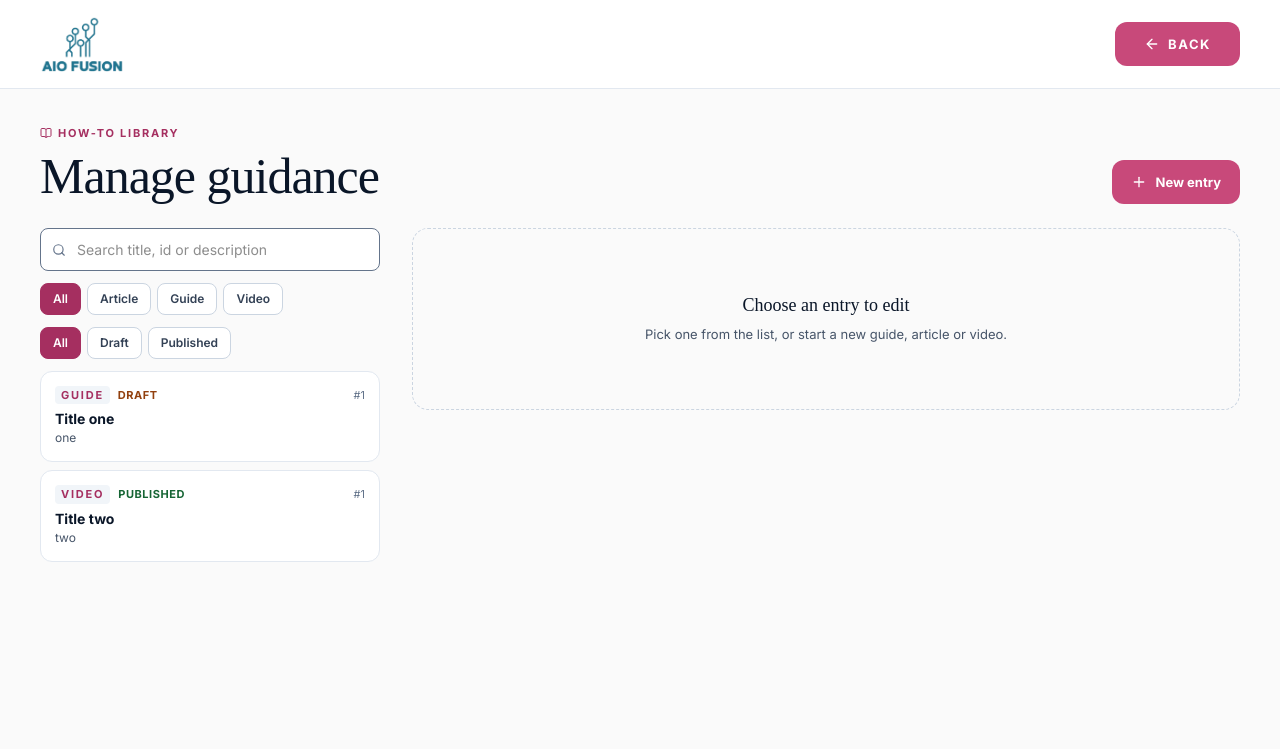
Test: HowtoAdminPage › publishes, unpublishes and requires confirmation to delete
Click the button with test id "row-entry-one".
click(82, 395)  # box [40,371,380,462]
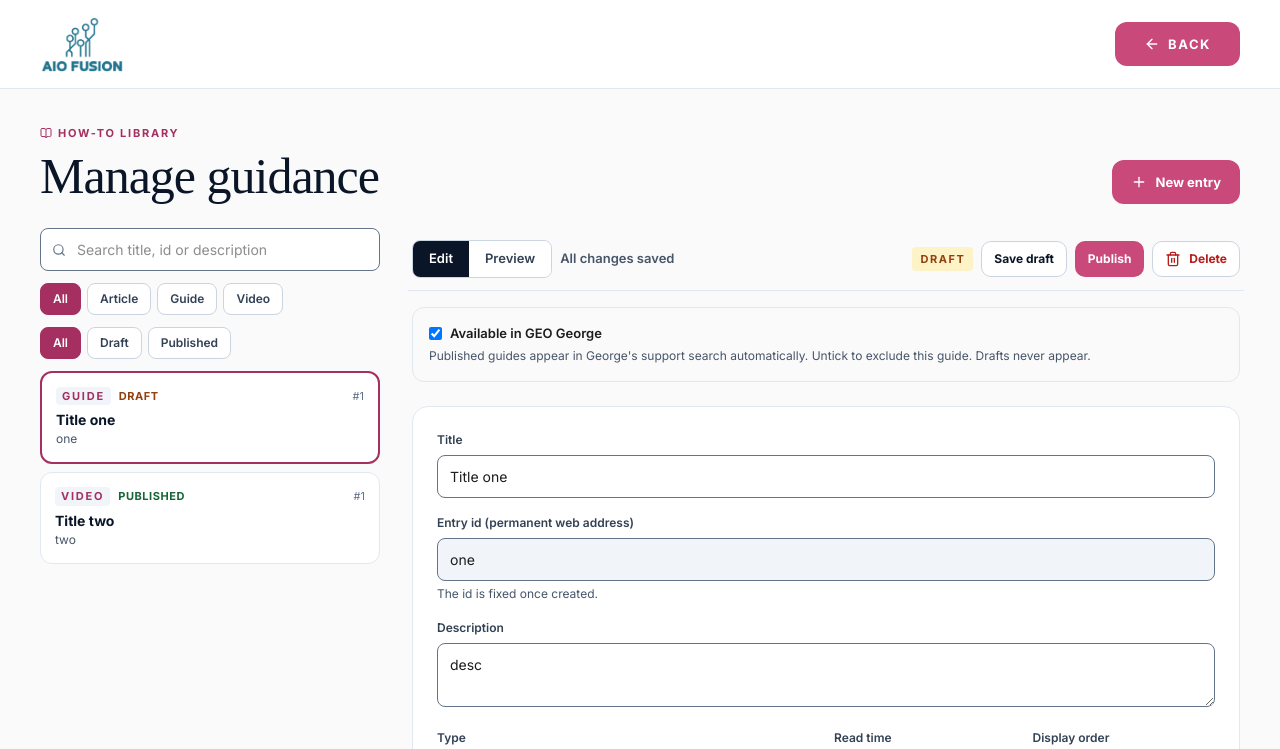
Click the button with test id "button-publish".
click(1110, 259)  # box [1075,241,1144,277]
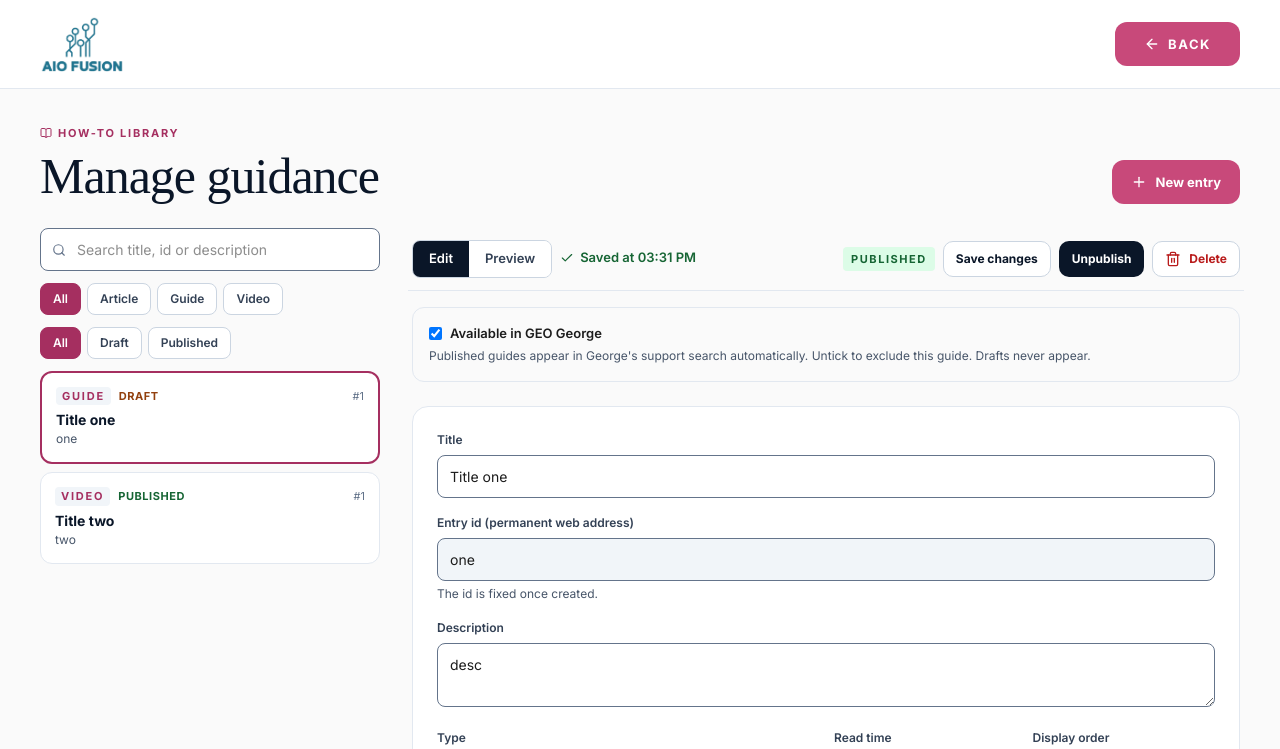
Now the button with test id "button-unpublish" is shown
Click the button with test id "button-unpublish".
click(1102, 259)  # box [1059,241,1144,277]
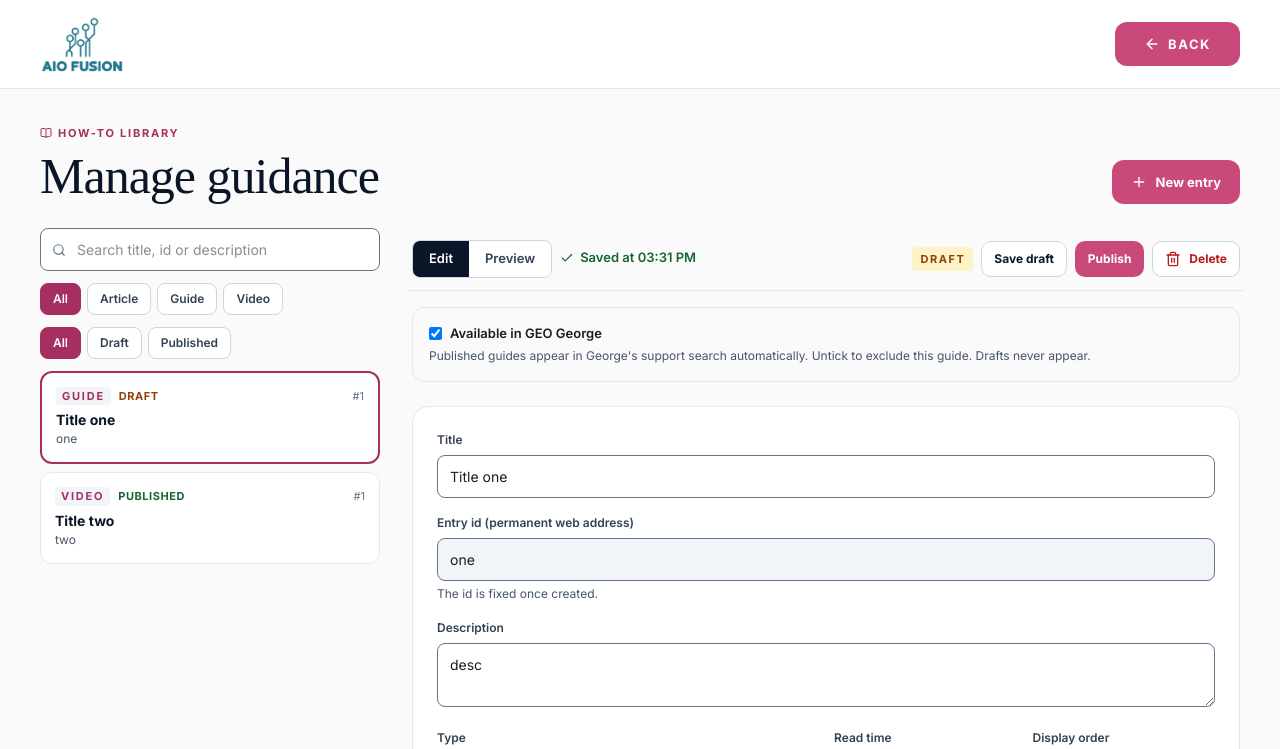
Now the button with test id "button-publish" is shown, box [1075,241,1144,277]
Click the button with test id "button-delete".
click(1196, 259)  # box [1152,241,1240,277]
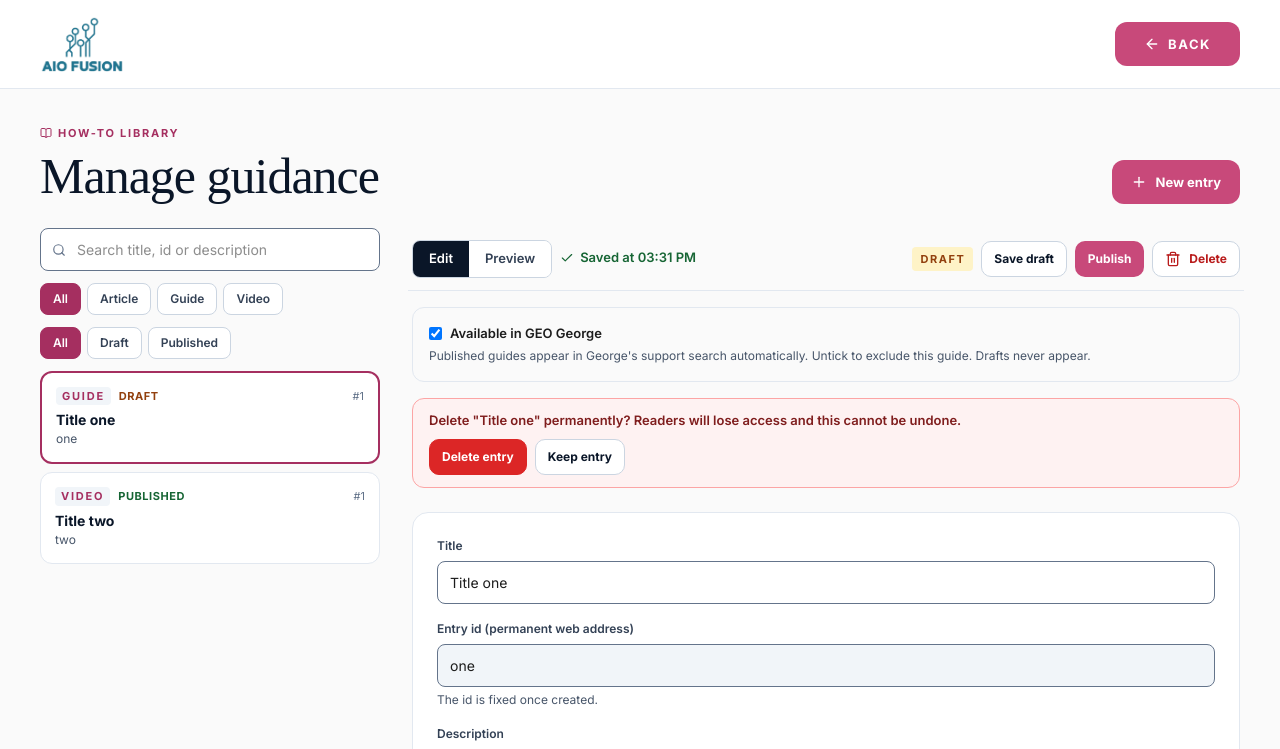
Click the button with test id "button-confirm-delete".
click(478, 457)  # box [429,439,527,475]
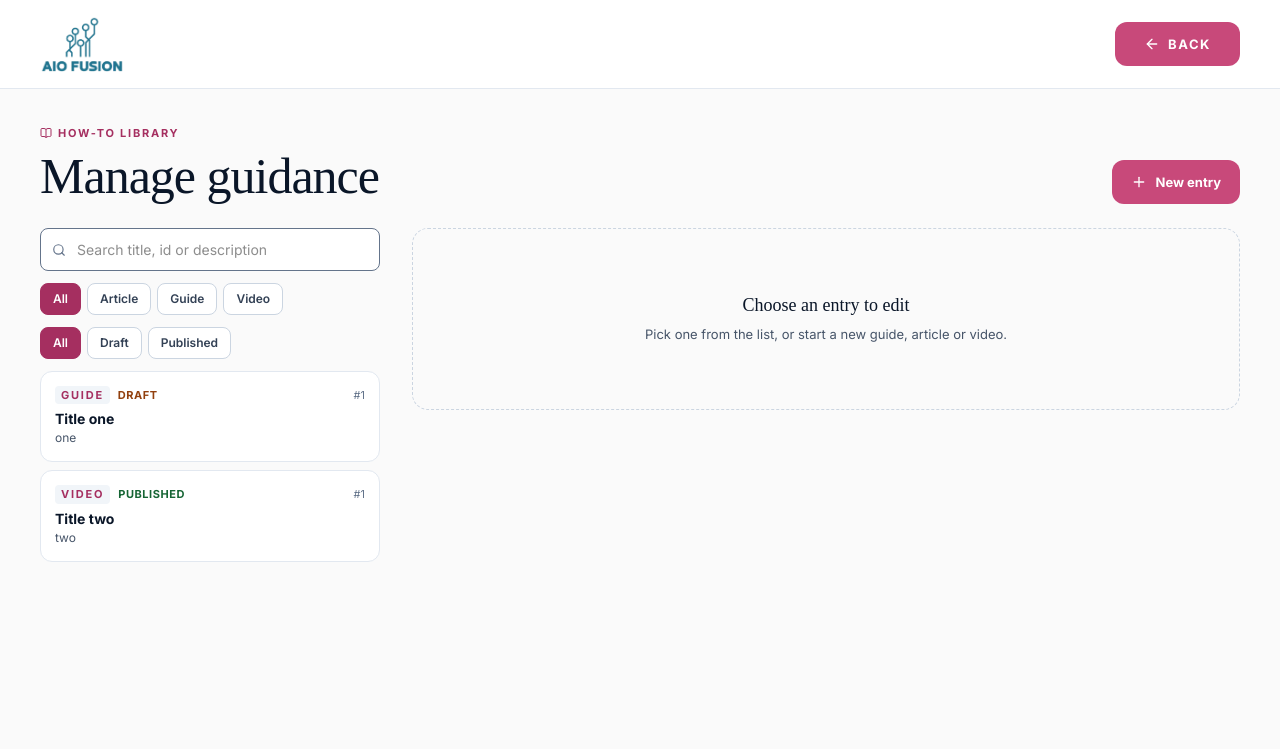
Now the element with test id "editor-empty" is shown, box [412,228,1240,410]
